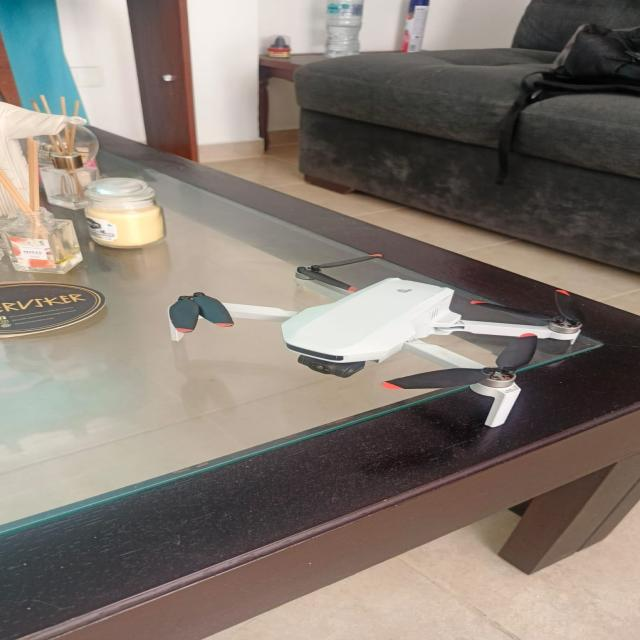dron: (152, 247, 633, 427)
